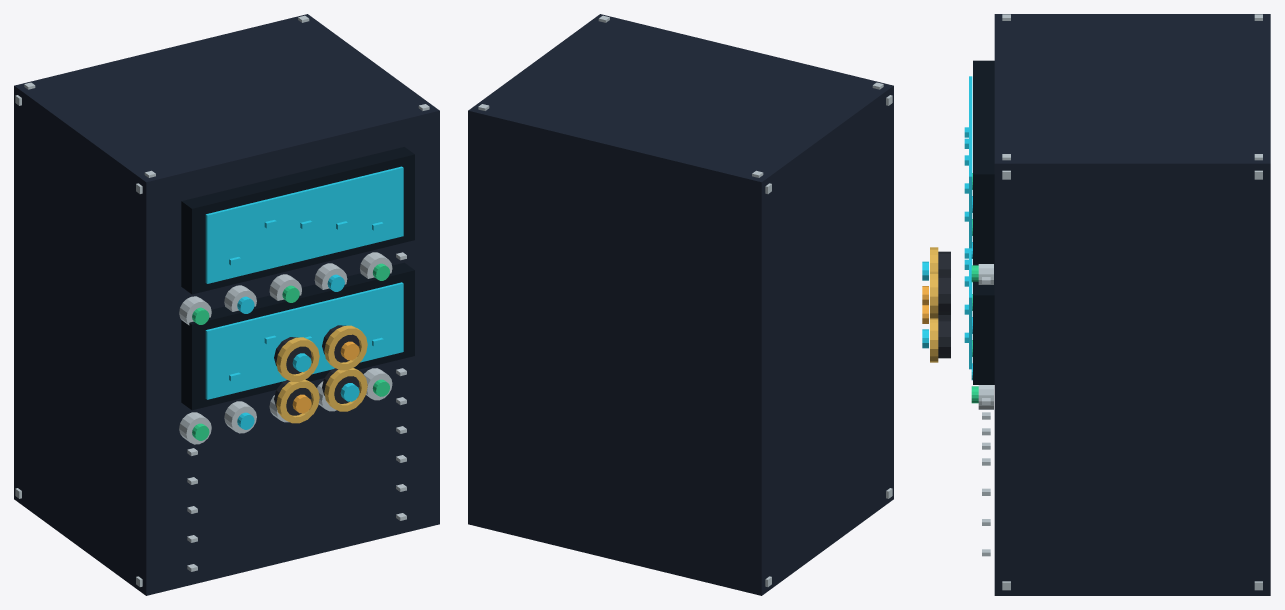
The model's file is 52_L82_AnalogInputSusceptibilityAnalyzer.fbx.
3 views of the same model, side by side, from view 1: azimuth 30°, elevation 25°; view 2: azimuth 150°, elevation 25°; view 3: azimuth 270°, elevation 25° (orthographic). The views are drawn at different scales.
Parts seen in each view (by area): view 1: AnalogInputSusceptibilityAnalyzer; view 2: AnalogInputSusceptibilityAnalyzer; view 3: AnalogInputSusceptibilityAnalyzer.
Part boxes in pixels (box(x1,y1,x2,y2)): AnalogInputSusceptibilityAnalyzer: box(14, 14, 439, 595); AnalogInputSusceptibilityAnalyzer: box(468, 14, 893, 595); AnalogInputSusceptibilityAnalyzer: box(922, 14, 1270, 595).
Bounding box in the file's own units: 106 × 142 × 102.
